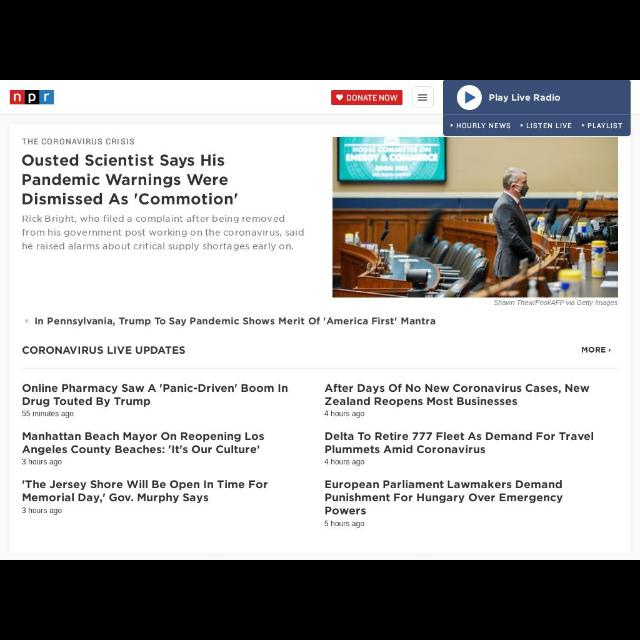button: (412, 86, 433, 108)
icon: (416, 92, 430, 105), (335, 94, 345, 100), (608, 346, 612, 354)
iframe: (446, 82, 630, 136)
image: (332, 136, 618, 298), (11, 88, 54, 105)
text: (19, 154, 239, 212), (19, 215, 307, 258), (322, 479, 566, 528), (20, 380, 292, 420), (323, 430, 595, 468), (324, 381, 594, 419), (21, 478, 270, 518), (21, 431, 265, 467), (34, 316, 440, 328), (19, 344, 188, 358), (21, 135, 135, 147), (493, 300, 619, 306), (346, 92, 396, 102), (582, 346, 608, 354)
textbutton: (332, 89, 402, 105), (578, 341, 616, 357)
toolbar: (2, 81, 442, 113)
